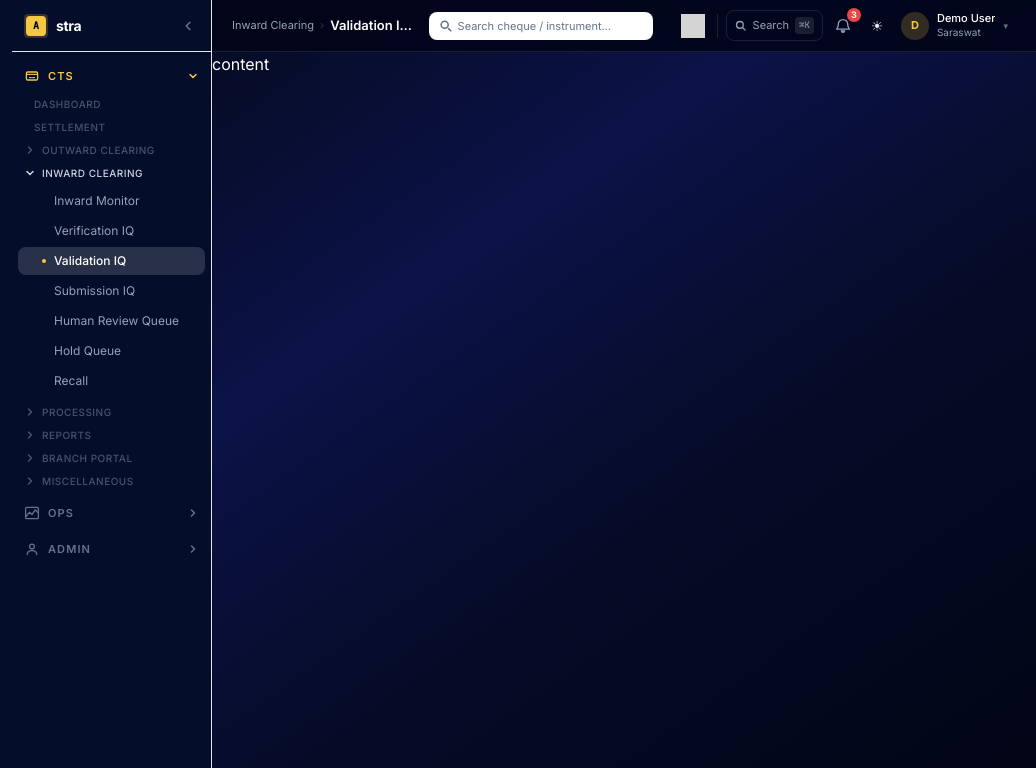
Scenario: AppShell sidebar navigation › opens profile menu on avatar click
Click the button "D Demo User Saraswat ▾".
click(955, 26)  # box [895,8,1016,44]
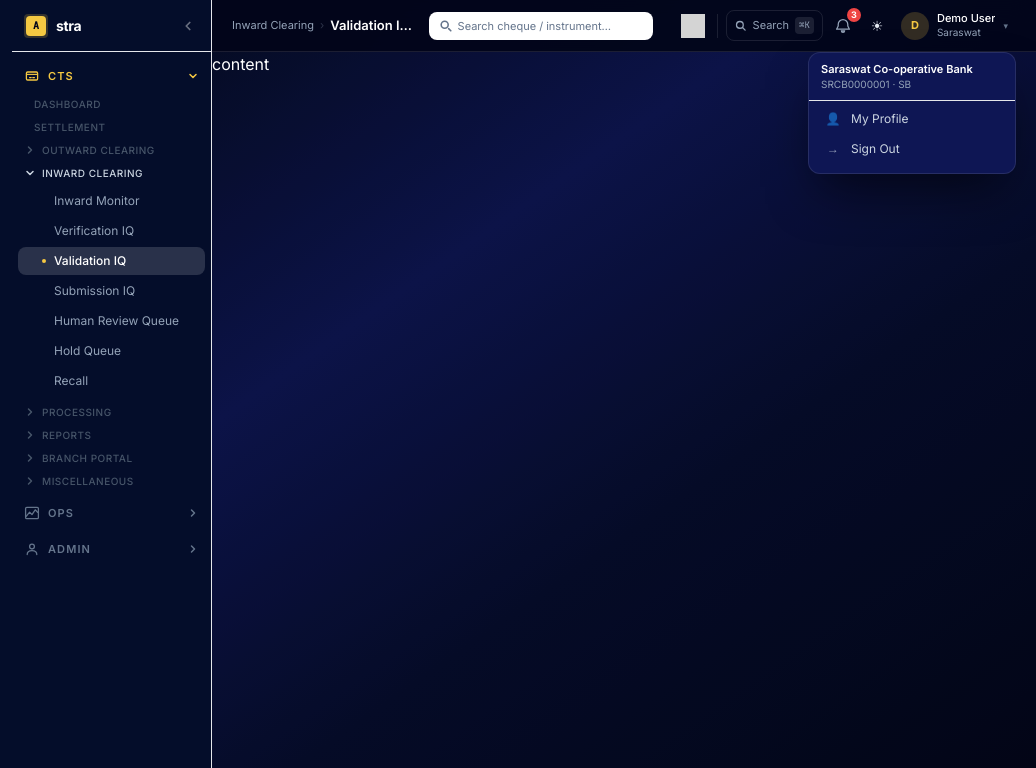
expect the link "→ Sign Out" is shown: met, box [827,141,900,156]
